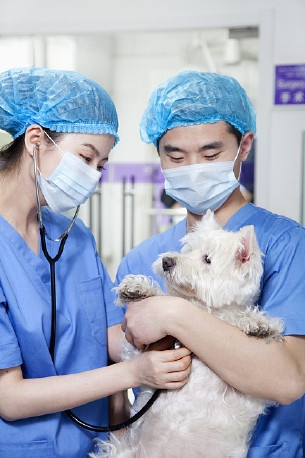Mask: (160, 140, 235, 215)
